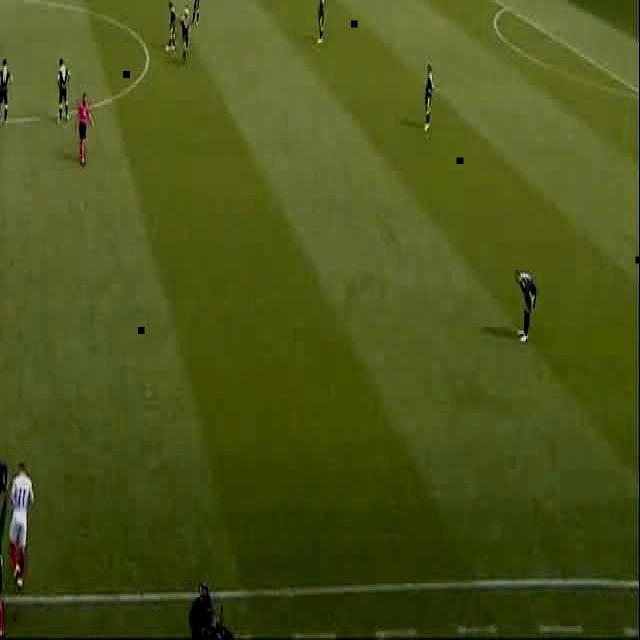player-white: (9, 460, 33, 588), (0, 489, 12, 638), (512, 268, 536, 342), (76, 90, 94, 163), (57, 58, 73, 123), (0, 57, 13, 128), (422, 64, 432, 132), (166, 1, 177, 52), (180, 6, 190, 62), (317, 0, 327, 44), (192, 0, 202, 23)
